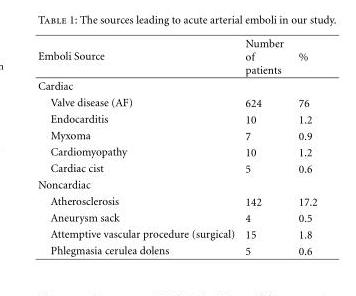table: (37, 37, 316, 256)
table column: (37, 37, 239, 256), (239, 37, 290, 256), (290, 37, 316, 256)
table column header: (37, 37, 316, 77)
table projected row header: (37, 77, 316, 93), (37, 176, 316, 192)
table row: (37, 37, 316, 77), (37, 93, 316, 110), (37, 110, 316, 127), (37, 143, 316, 160), (37, 192, 316, 209), (37, 225, 316, 242), (37, 77, 316, 93), (37, 127, 316, 143), (37, 160, 316, 176), (37, 176, 316, 192), (37, 209, 316, 225), (37, 242, 316, 256)
